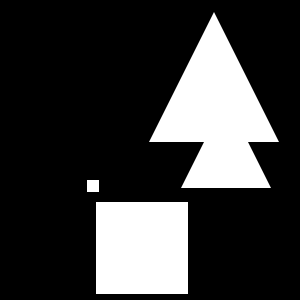circle: (96, 202, 188, 294), (87, 180, 99, 192)
triangle: (149, 12, 279, 142), (181, 98, 271, 188)
